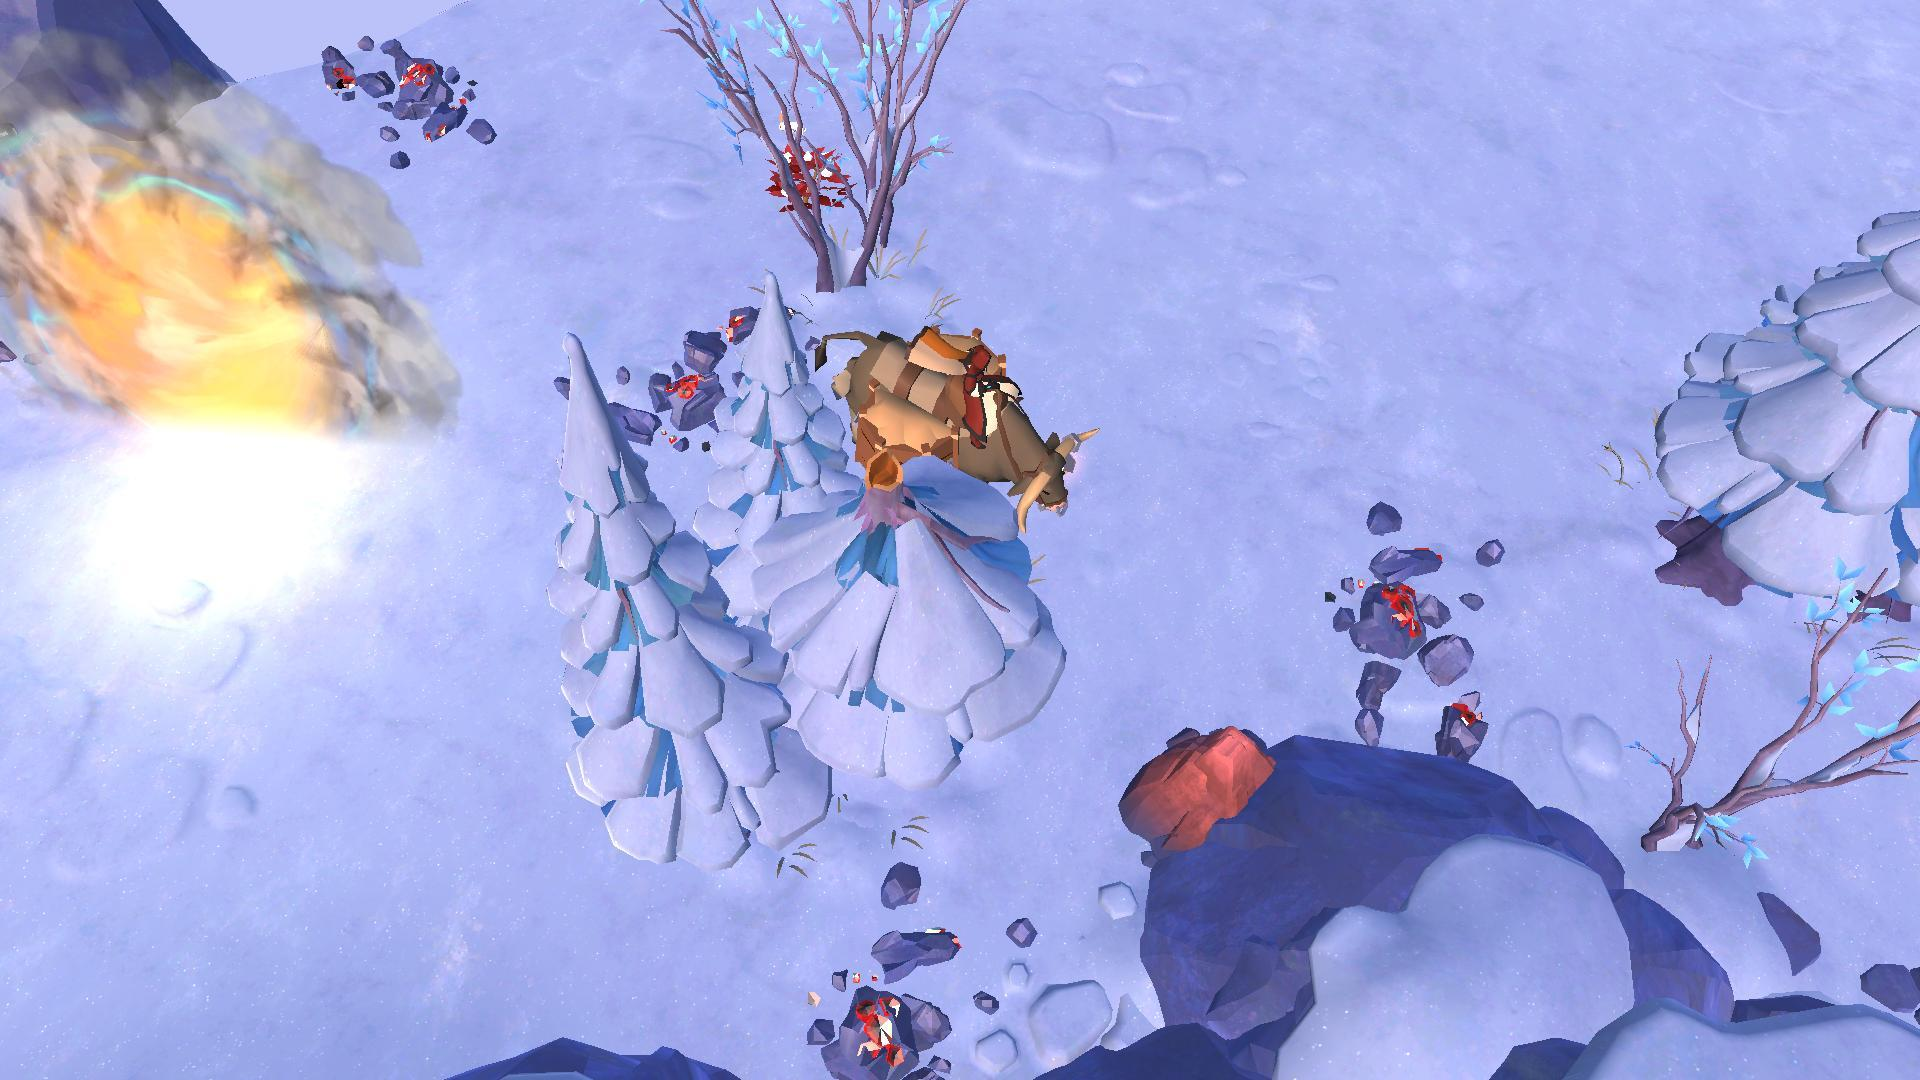fiber_t5: (762, 140, 849, 222)
rock_t5: (1108, 708, 1276, 860)
